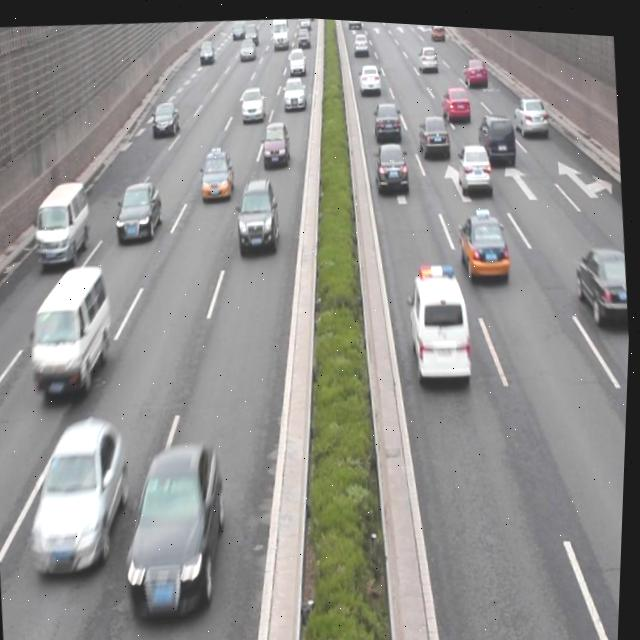car: (114, 432, 238, 619), (24, 410, 140, 577), (571, 231, 632, 318), (455, 201, 513, 283), (233, 171, 282, 254), (112, 177, 166, 243), (473, 103, 519, 164), (454, 135, 495, 191), (373, 134, 411, 189), (198, 141, 235, 197), (414, 106, 451, 157), (511, 86, 548, 133), (259, 117, 290, 165), (370, 93, 402, 139), (439, 78, 471, 117), (151, 96, 181, 135), (240, 84, 265, 122)
truck: (28, 260, 117, 395), (405, 254, 478, 378), (31, 176, 95, 268)
